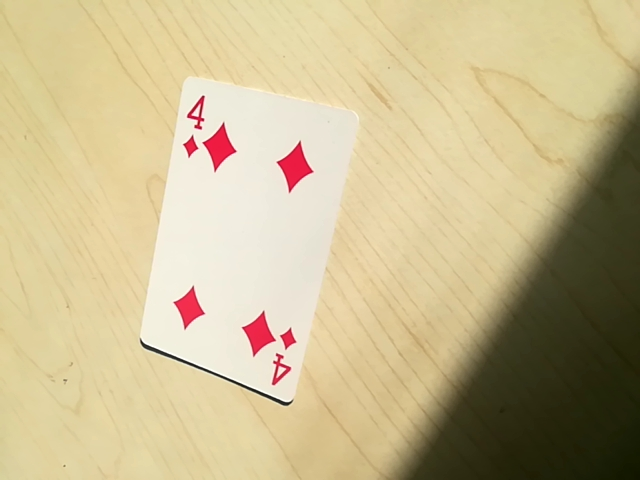fk 4: (180, 93, 220, 160), (262, 324, 297, 398)
